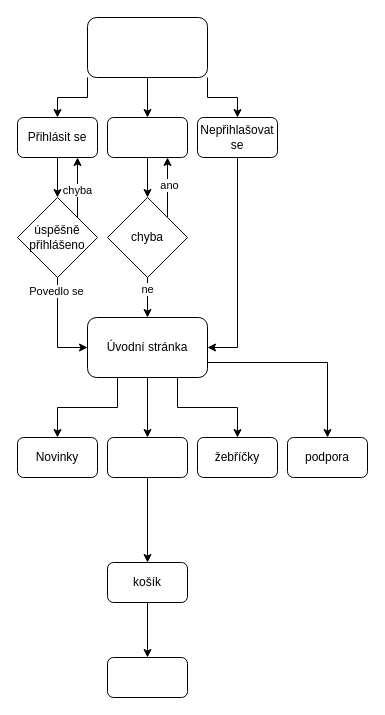
Some shapes in this 385 by 715 pixel diagram are drawn without their labels. The centre of each missing label's shape, as x and y in pixels:
"Obchod" belongs at point 147,457.
"Platba" belongs at point 147,677.
"Start" belongs at point 147,47.
"vytvořit si účet" belongs at point 147,137.
